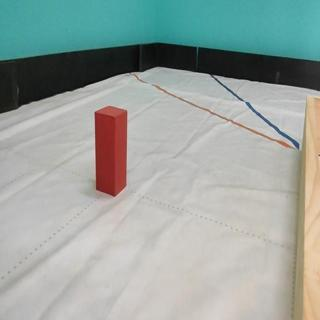redbox: (93, 104, 128, 197)
